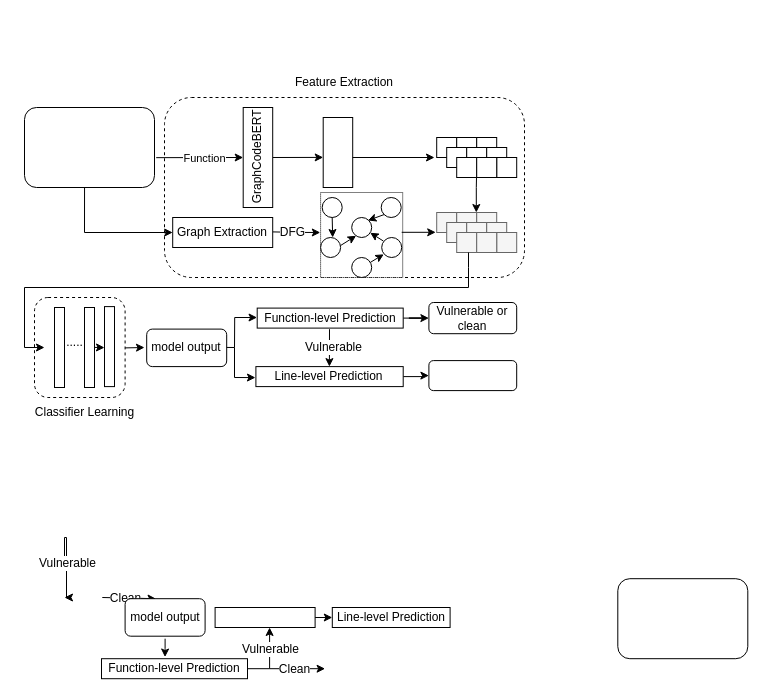
This 766x697 diagram has some shape labels left out. The shapes that lost their labels are listed below. From the top down, each one's centre as x and y in pixels, then its label:
At point 89,147: "int main(int a,int b){ int ret; ret = a+b; return ret; }".
At point 337,152: "Tokenizer".
At point 472,375: "Vulnerable lines".
At point 264,617: "Attention Scores".
At point 682,618: "int main(int a,int b){ int x; x = b > a ? b : a; return x; }".
